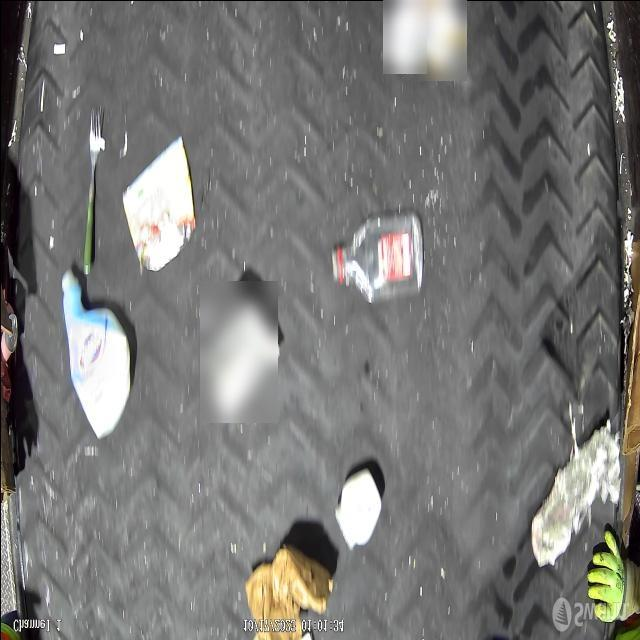non_white_jug: (62, 267, 132, 441)
plastic_bottle: (331, 212, 423, 302)
